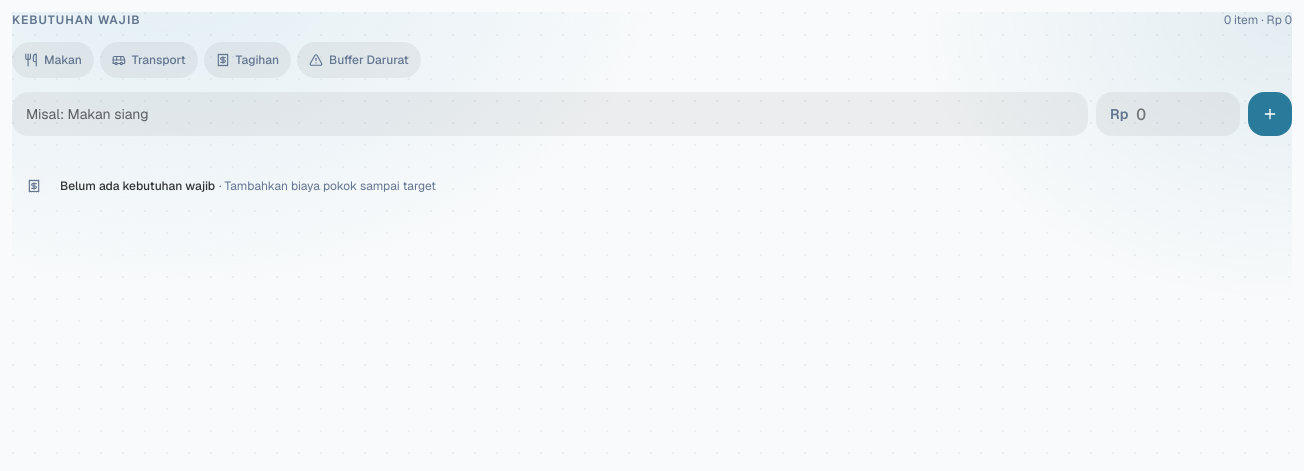
NeedsSection: validation errors › moves focus to amount input when title is filled but amount is invalid
Type "Kopi" into the field with id "need-title-input".
click(550, 114); type("Kopi")  # box [12, 92, 1088, 136]
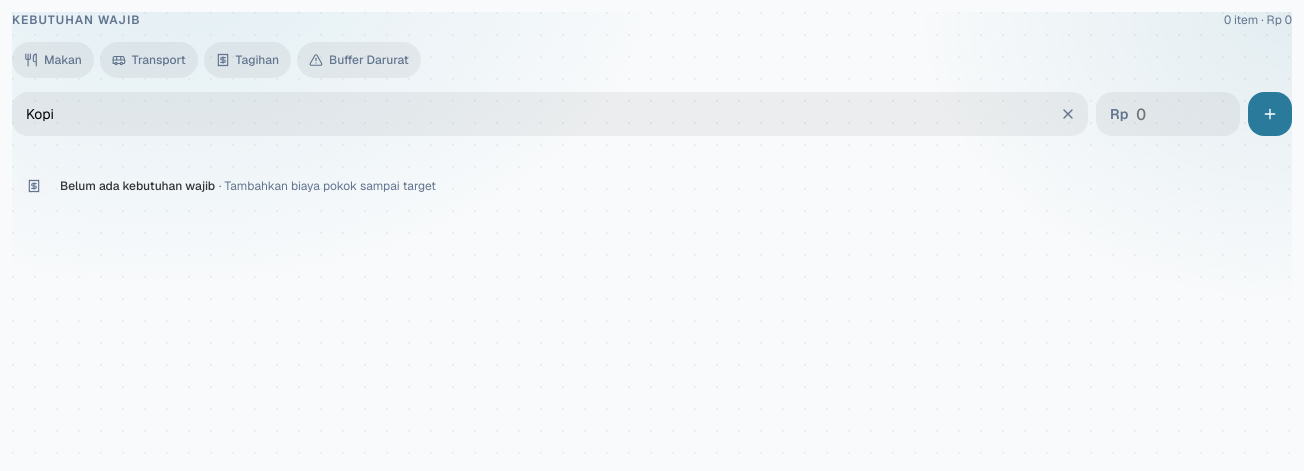
Submit the form from the submit button, box [1248, 92, 1292, 136]
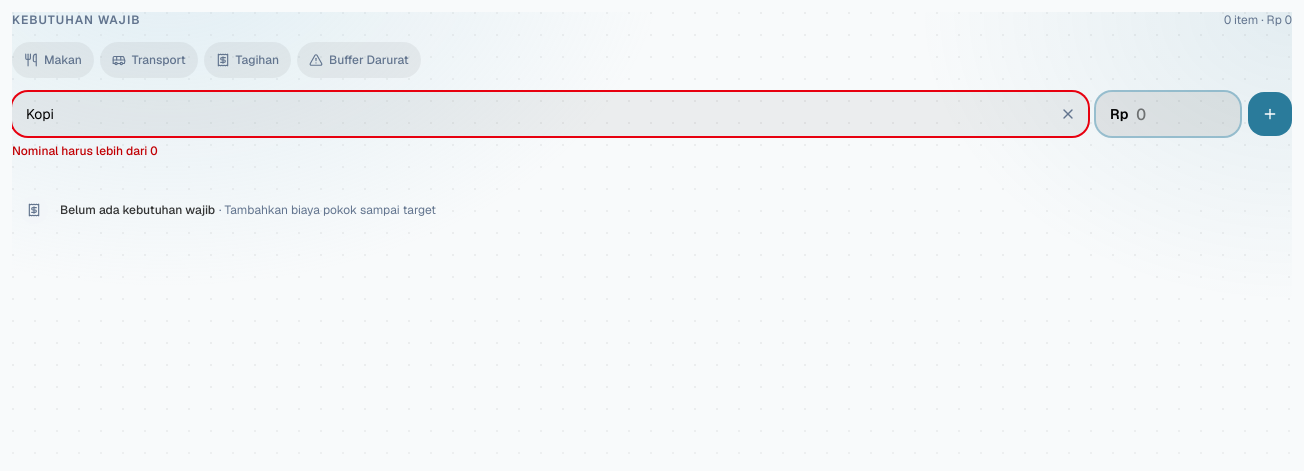
Expected: the message with id "need-form-error" reads "Nominal harus lebih dari 0", [12, 143, 158, 159]
